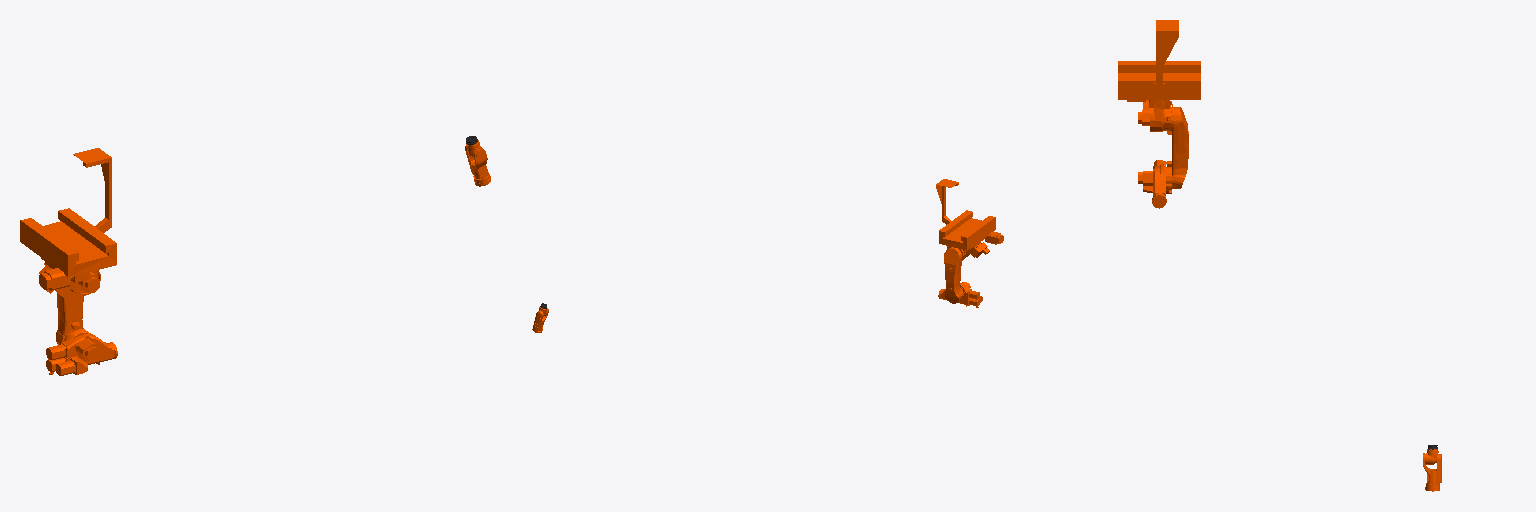
robot.urdf — kuka_kr_60l45_jet_clg:
<?xml version="1.0"?>
<robot name="kuka_kr_60l45_jet_clg">
  <material name="kuka_orange"><color rgba="1.00 0.40 0.00 1.0"/></material>
  <material name="kuka_dark_gray"><color rgba="0.20 0.20 0.20 1.0"/></material>

  <link name="base_link">
    <inertial>
      <origin xyz="-0.061132 0.000000 0.299208" rpy="0 0 0"/>
      <mass value="106.667"/>
      <inertia ixx="3.362297" ixy="0.525567" ixz="0.291489" iyy="2.960047" iyz="0.000000" izz="3.063789"/>
    </inertial>
    <visual>
      <origin xyz="0 0 0" rpy="0 0 0"/>
      <geometry><mesh filename="meshes/visual/base_link.stl"/></geometry>
      <material name="kuka_dark_gray"/>
    </visual>
    <collision>
      <origin xyz="0 0 0" rpy="0 0 0"/>
      <geometry><mesh filename="meshes/visual/base_link.stl"/></geometry>
    </collision>
  </link>

  <link name="link_1">
    <inertial>
      <origin xyz="-0.117509 -0.023209 0.392207" rpy="0 0 0"/>
      <mass value="80.700"/>
      <inertia ixx="8.012950" ixy="-0.593521" ixz="-1.683156" iyy="8.739444" iyz="-0.678484" izz="5.492557"/>
    </inertial>
    <visual>
      <origin xyz="0 0 0" rpy="0 0 0"/>
      <geometry><mesh filename="meshes/visual/link_1.stl"/></geometry>
      <material name="kuka_orange"/>
    </visual>
    <collision>
      <origin xyz="0 0 0" rpy="0 0 0"/>
      <geometry><mesh filename="meshes/visual/link_1.stl"/></geometry>
    </collision>
  </link>

  <link name="link_2">
    <inertial>
      <origin xyz="-0.001460 0.210144 -0.489117" rpy="0 0 0"/>
      <mass value="405.000"/>
      <inertia ixx="32.224008" ixy="-0.006017" ixz="0.087670" iyy="32.178672" iyz="-2.334463" izz="4.796299"/>
    </inertial>
    <visual>
      <origin xyz="0 0 0" rpy="0 0 0"/>
      <geometry><mesh filename="meshes/visual/link_2.stl"/></geometry>
      <material name="kuka_orange"/>
    </visual>
    <collision>
      <origin xyz="0 0 0" rpy="0 0 0"/>
      <geometry><mesh filename="meshes/visual/link_2.stl"/></geometry>
    </collision>
  </link>

  <link name="link_3">
    <inertial>
      <origin xyz="-0.055306 -0.040088 -0.068783" rpy="0 0 0"/>
      <mass value="151.900"/>
      <inertia ixx="2.001578" ixy="-0.262002" ixz="-0.085758" iyy="5.153598" iyz="-0.059276" izz="4.901260"/>
    </inertial>
    <visual>
      <origin xyz="0 0 0" rpy="0 0 0"/>
      <geometry><mesh filename="meshes/visual/link_3.stl"/></geometry>
      <material name="kuka_orange"/>
    </visual>
    <collision>
      <origin xyz="0 0 0" rpy="0 0 0"/>
      <geometry><mesh filename="meshes/visual/link_3.stl"/></geometry>
    </collision>
  </link>

  <link name="link_4">
    <inertial>
      <origin xyz="6.488180 3.510408 -0.706418" rpy="0 0 0"/>
      <mass value="49.800"/>
      <inertia ixx="0.788757" ixy="-0.007446" ixz="0.124844" iyy="0.686898" iyz="0.031414" izz="0.363786"/>
    </inertial>
    <visual>
      <origin xyz="0 0 0" rpy="0 0 0"/>
      <geometry><mesh filename="meshes/visual/link_4.stl"/></geometry>
      <material name="kuka_orange"/>
    </visual>
    <collision>
      <origin xyz="0 0 0" rpy="0 0 0"/>
      <geometry><mesh filename="meshes/visual/link_4.stl"/></geometry>
    </collision>
  </link>

  <link name="link_5">
    <inertial>
      <origin xyz="6.032441 3.486947 -0.497187" rpy="0 0 0"/>
      <mass value="38.200"/>
      <inertia ixx="0.196880" ixy="0.003862" ixz="0.010567" iyy="0.192587" iyz="-0.015392" izz="0.159603"/>
    </inertial>
    <visual>
      <origin xyz="0 0 0" rpy="0 0 0"/>
      <geometry><mesh filename="meshes/visual/link_5.stl"/></geometry>
      <material name="kuka_orange"/>
    </visual>
    <collision>
      <origin xyz="0 0 0" rpy="0 0 0"/>
      <geometry><mesh filename="meshes/visual/link_5.stl"/></geometry>
    </collision>
  </link>

  <link name="link_6">
    <inertial>
      <origin xyz="5.831965 3.502628 -0.382645" rpy="0 0 0"/>
      <mass value="20.400"/>
      <inertia ixx="0.038687" ixy="-0.000047" ixz="-0.003486" iyy="0.039664" iyz="-0.000013" izz="0.050614"/>
    </inertial>
    <visual>
      <origin xyz="0 0 0" rpy="0 0 0"/>
      <geometry><mesh filename="meshes/visual/link_6.stl"/></geometry>
      <material name="kuka_dark_gray"/>
    </visual>
    <collision>
      <origin xyz="0 0 0" rpy="0 0 0"/>
      <geometry><mesh filename="meshes/visual/link_6.stl"/></geometry>
    </collision>
  </link>

  <link name="tool0"/>

  <joint name="joint_a1" type="revolute">
    <parent link="base_link"/>
    <child link="link_1"/>
    <origin xyz="0.000000 0.000000 0.000000" rpy="0 0 0"/>
    <axis xyz="-0.0 0.0 -1.0"/>
    <limit lower="-62.831853" upper="62.831853" effort="5000.0" velocity="19.634954"/>
    <dynamics damping="5.0" friction="1.0"/>
  </joint>

  <joint name="joint_a2" type="revolute">
    <parent link="link_1"/>
    <child link="link_2"/>
    <origin xyz="0.000000 0.000000 0.000000" rpy="0 0 0"/>
    <axis xyz="-0.0 -1.0 0.0"/>
    <limit lower="-1.570796" upper="1.570796" effort="4250.0" velocity="2.264211"/>
    <dynamics damping="5.0" friction="1.0"/>
  </joint>

  <joint name="joint_a3" type="revolute">
    <parent link="link_2"/>
    <child link="link_3"/>
    <origin xyz="0.000000 -0.000000 -0.850000" rpy="0 0 0"/>
    <axis xyz="-0.0 -1.0 0.0"/>
    <limit lower="-3.665191" upper="1.186824" effort="4250.0" velocity="3.193581"/>
    <dynamics damping="5.0" friction="1.0"/>
  </joint>

  <joint name="joint_a4" type="revolute">
    <parent link="link_3"/>
    <child link="link_4"/>
    <origin xyz="0.620000 -0.000000 -0.145000" rpy="0 0 0"/>
    <axis xyz="-0.0 0.0 1.0"/>
    <limit lower="-6.108652" upper="6.108652" effort="300.0" velocity="5.511981"/>
    <dynamics damping="5.0" friction="1.0"/>
  </joint>

  <joint name="joint_a5" type="revolute">
    <parent link="link_4"/>
    <child link="link_5"/>
    <origin xyz="0.400000 -0.000000 0.000000" rpy="0 0 0"/>
    <axis xyz="0.0 -0.0 -1.0"/>
    <limit lower="-2.076942" upper="2.076942" effort="380.0" velocity="5.200084"/>
    <dynamics damping="5.0" friction="1.0"/>
  </joint>

  <joint name="joint_a6" type="revolute">
    <parent link="link_5"/>
    <child link="link_6"/>
    <origin xyz="0.170000 -0.000000 0.000000" rpy="0 0 0"/>
    <axis xyz="-0.0 0.0 1.0"/>
    <limit lower="-6.108652" upper="6.108652" effort="200.0" velocity="6.837075"/>
    <dynamics damping="5.0" friction="1.0"/>
  </joint>

  <joint name="link_6-tool0" type="fixed">
    <parent link="link_6"/>
    <child link="tool0"/>
    <origin xyz="0.000000 0.000000 0.000000" rpy="0 1.57079632679 0"/>
  </joint>
</robot>

--- Facts derived from the render (not from the file) ---
Views: 3 orthographic renders of the robot side by side, from view 1: azimuth 30°, elevation 25°; view 2: azimuth 150°, elevation 25°; view 3: azimuth 270°, elevation 25°.
Model kuka_kr_60l45_jet_clg with 8 links and 7 joints (6 revolute, 1 fixed), rooted at base_link, posed all joints at 0.
Links seen in each view (by area): view 1: link_1, link_3, link_2, link_4; view 2: link_1, link_2; view 3: link_1, link_2, link_3.
Boxes of the visible links, x1,y1,x2,y2 form: link_1: (20,148,116,298); link_3: (46,325,117,375); link_2: (56,289,83,344); link_4: (465,146,490,186); link_1: (936,179,1003,260); link_2: (944,246,964,303); link_1: (1118,20,1200,131); link_2: (1166,104,1188,188); link_3: (1138,160,1171,208).
Bounding box of the posed robot: 7.96 × 4.16 × 3.34 m (x, y, z).
Meshes: 7 distinct files referenced, 6 mesh visuals loaded (6 binary STL); not drawn: 1 (reference not matched to a file when rendering).
